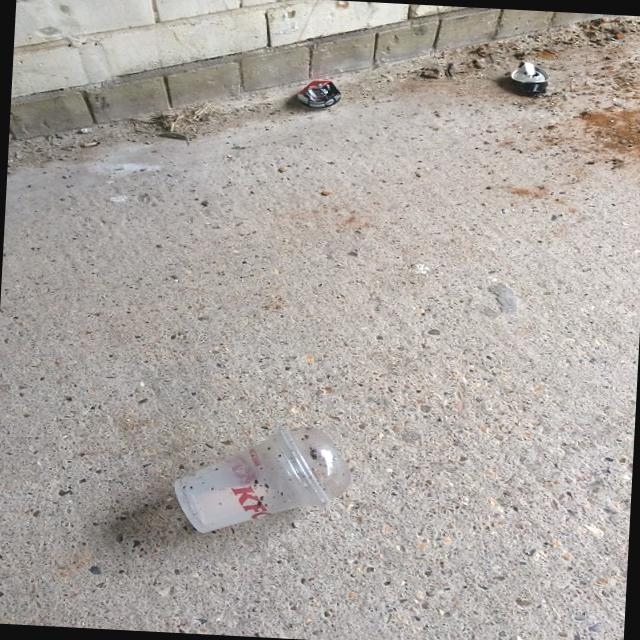Recycle: (170, 416, 370, 547)
